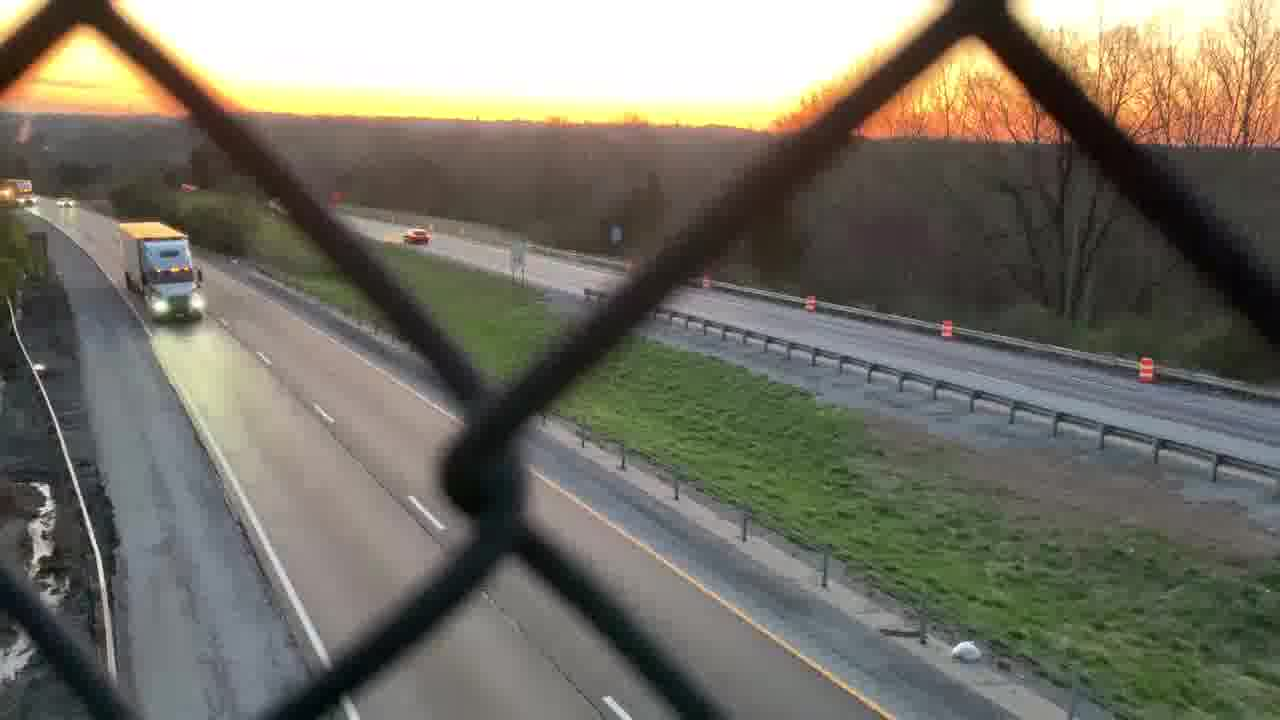heavyTruck: (116, 216, 210, 333), (3, 172, 36, 203)
vehicle: (402, 225, 433, 241), (57, 193, 78, 211)
